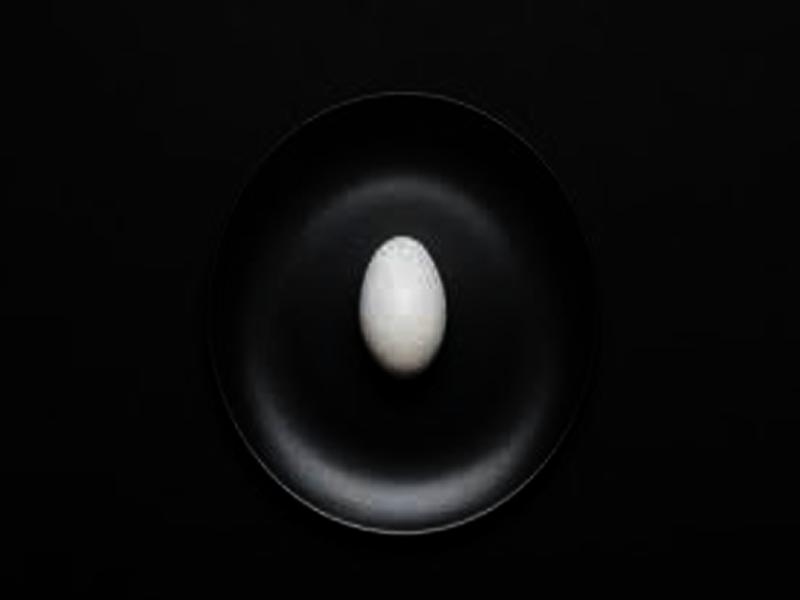Eggs: (357, 236, 446, 377)
